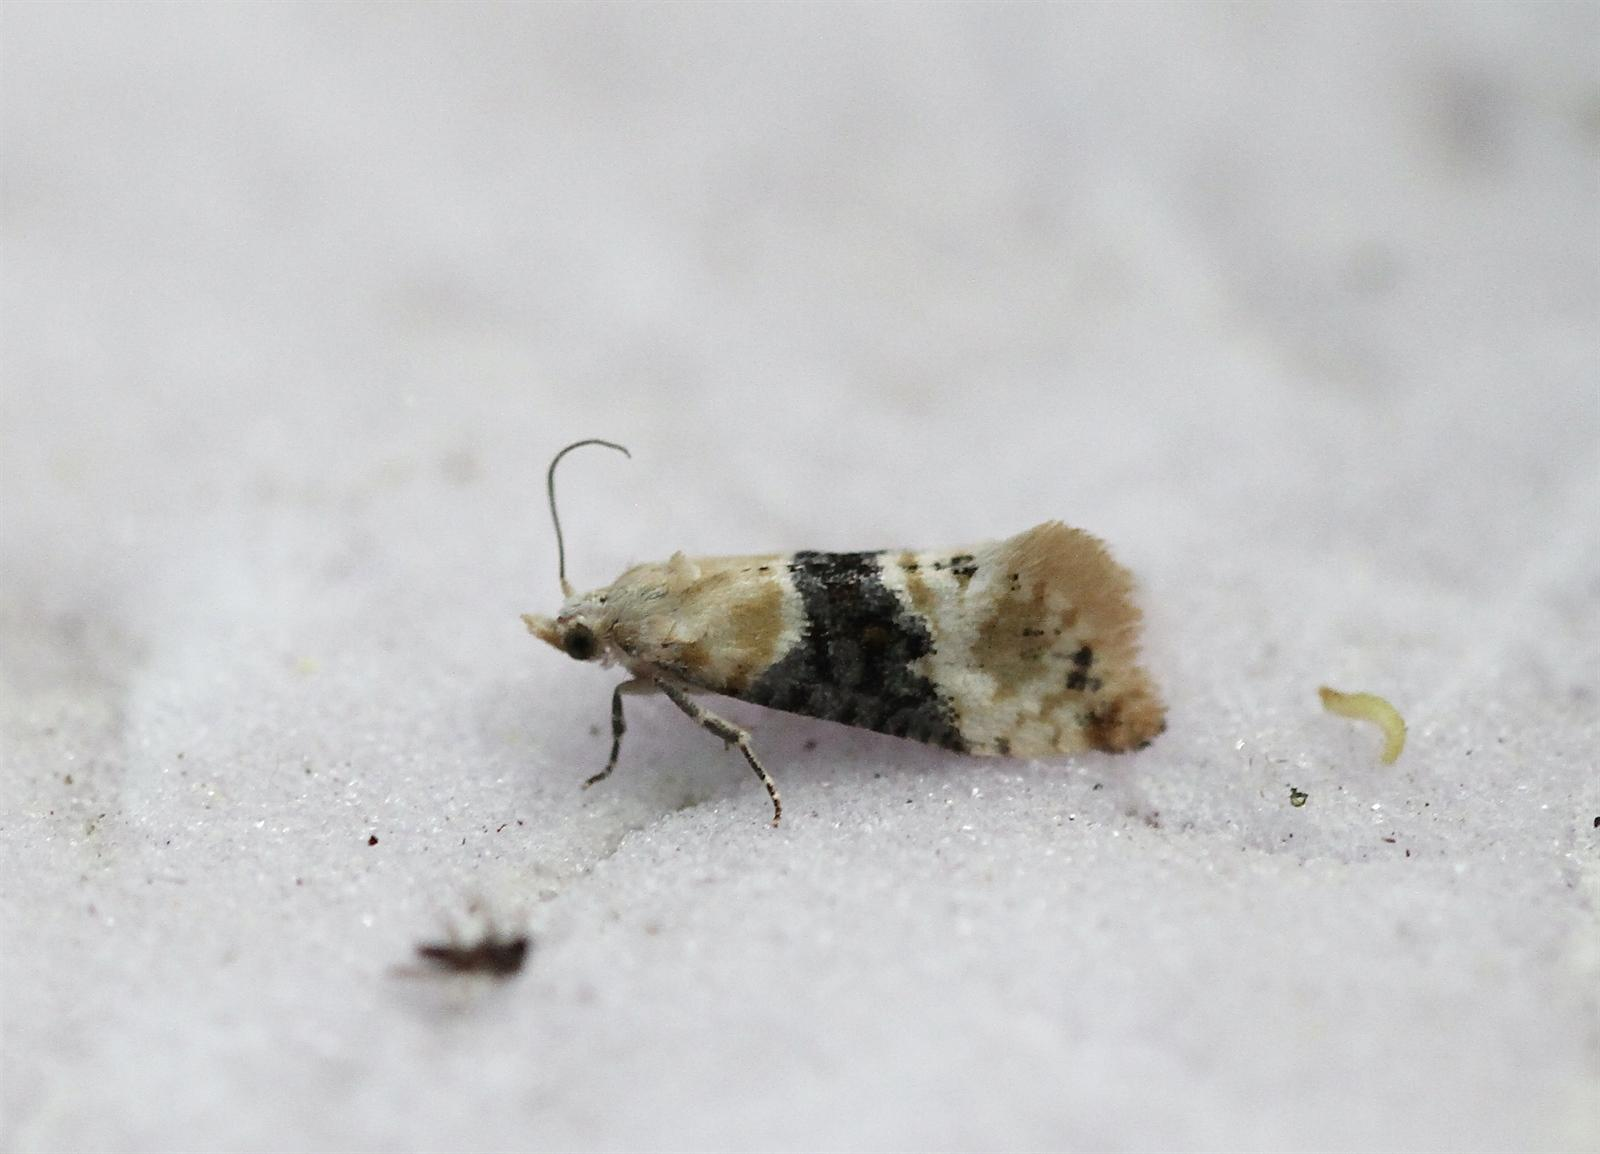Eupoecilia Ambiguella: (514, 436, 1174, 834)
